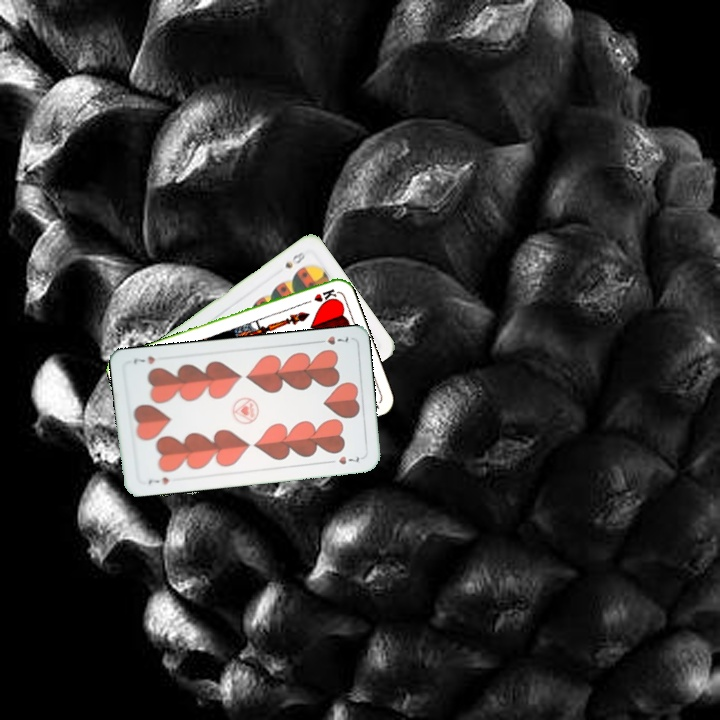H7: (312, 332, 352, 347), (144, 473, 171, 487)
HK: (298, 285, 338, 307)
S8: (281, 246, 309, 271)
